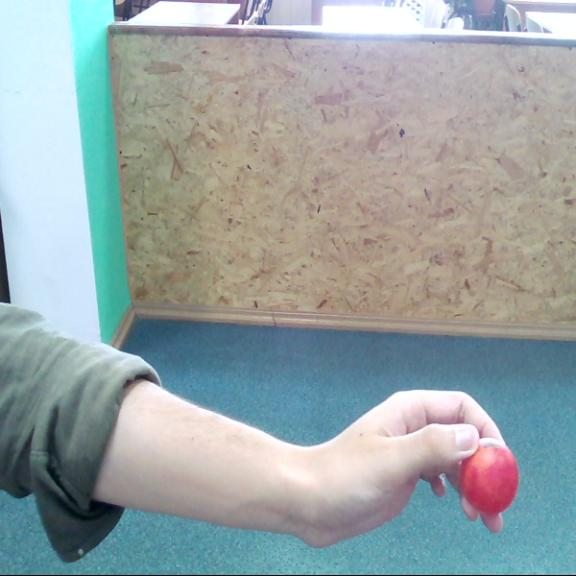ball: (461, 440, 520, 517)
